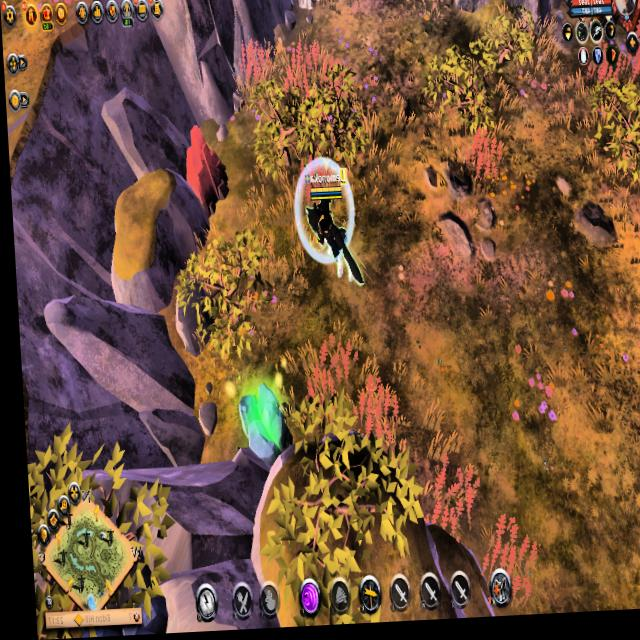rock tier 4: (231, 381, 289, 471)
rock tier 5: (178, 123, 228, 224)
